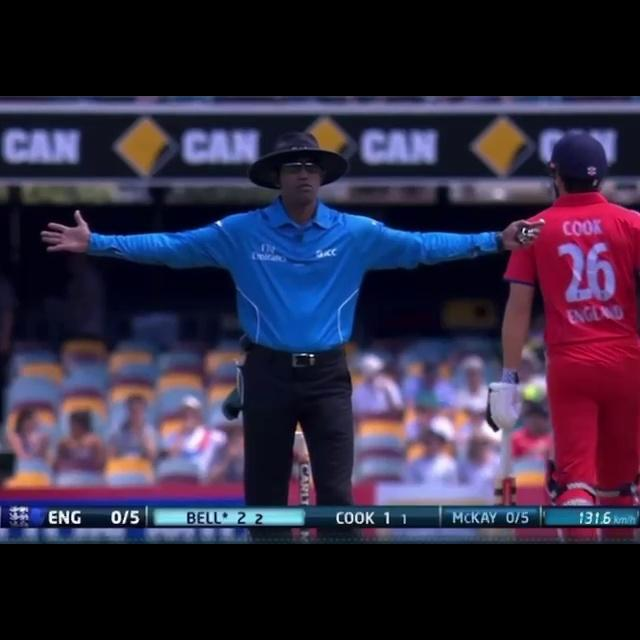umpire: (39, 125, 554, 504)
